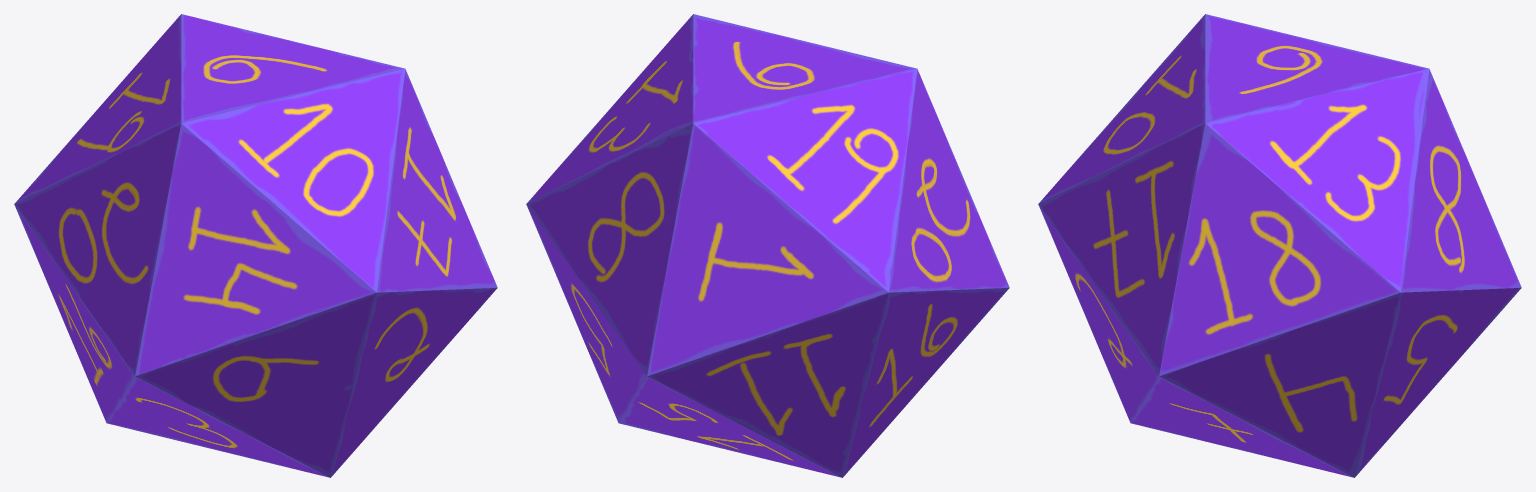
3 views of the same model, side by side, from view 1: azimuth 30°, elevation 25°; view 2: azimuth 150°, elevation 25°; view 3: azimuth 270°, elevation 25° (orthographic).
Parts seen in each view (by area): view 1: d20; view 2: d20; view 3: d20.
Boxes of the visible parts, x1,y1,x2,y2 form: d20: (14,14,497,477); d20: (526,14,1009,477); d20: (1038,14,1521,477).
Bounding box in the file's own units: 1.7 × 1.59 × 1.96.
1 material, 1 textured.
